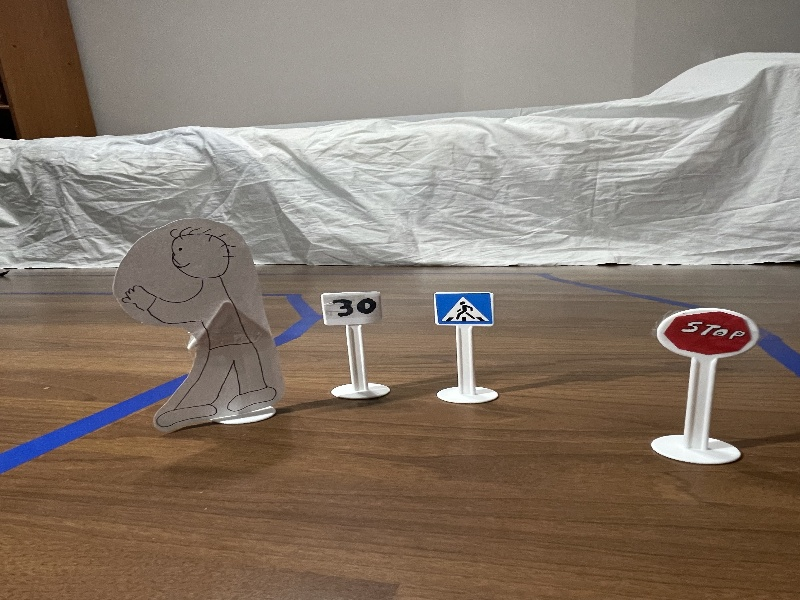persoana: (98, 215, 294, 429)
stop: (653, 296, 758, 369)
trecere_pietoni: (430, 287, 499, 330)
viteza_limita_30: (311, 285, 390, 330)
